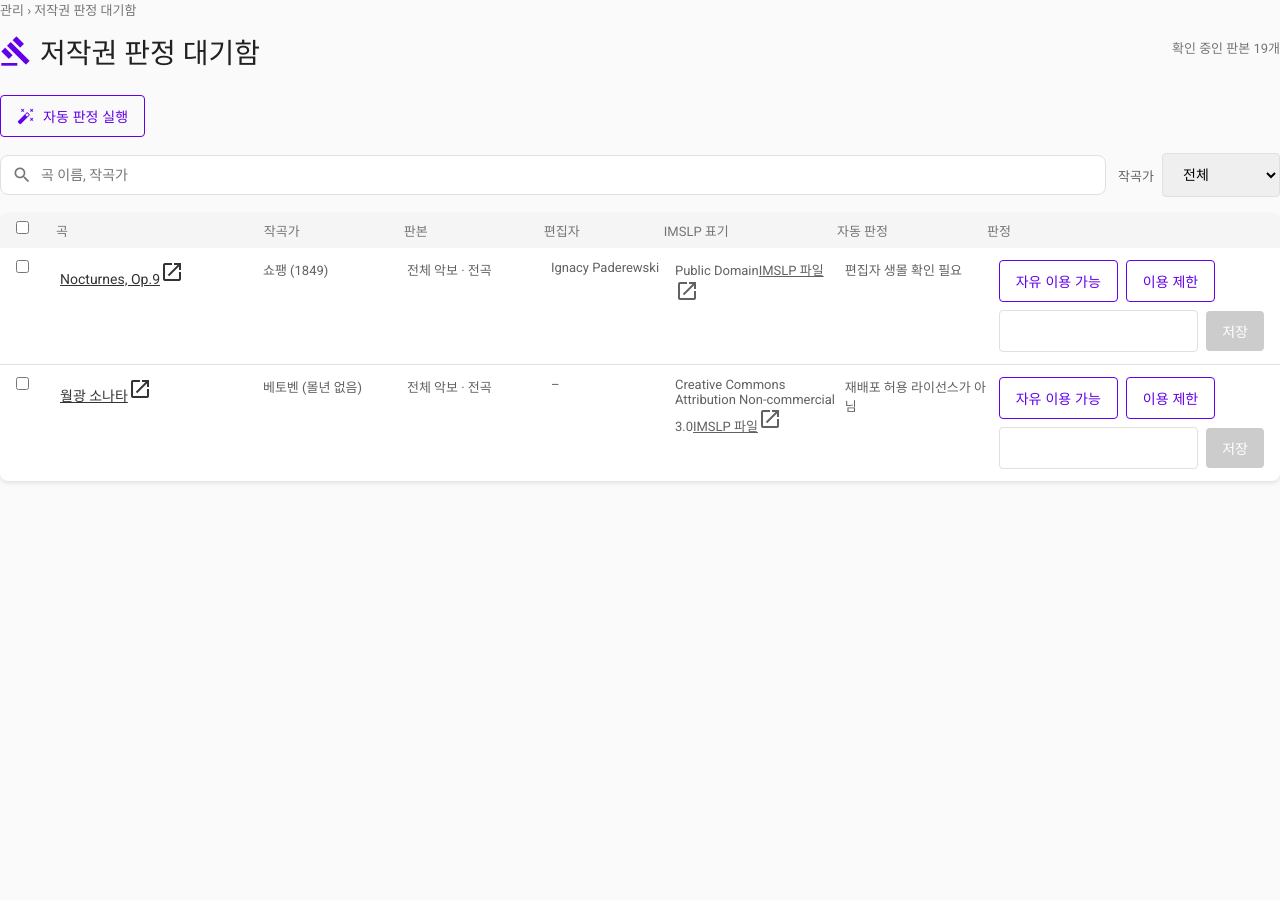
Test: 대기함 — 되돌린 직후의 창 (02 §5-8-1 화면 계약 2-1·2-2) › 실행 직후 창에서 되돌리면 실행 기억도 함께 끝난다 — 되돌린 것을 다시 되돌릴 수는 없다
This screenshot has width=1280, height=900.
Check: the button "자동 판정만 되돌리기" is not shown
Click the button "자동 판정 실행".
click(73, 116)  # box [0,95,145,137]
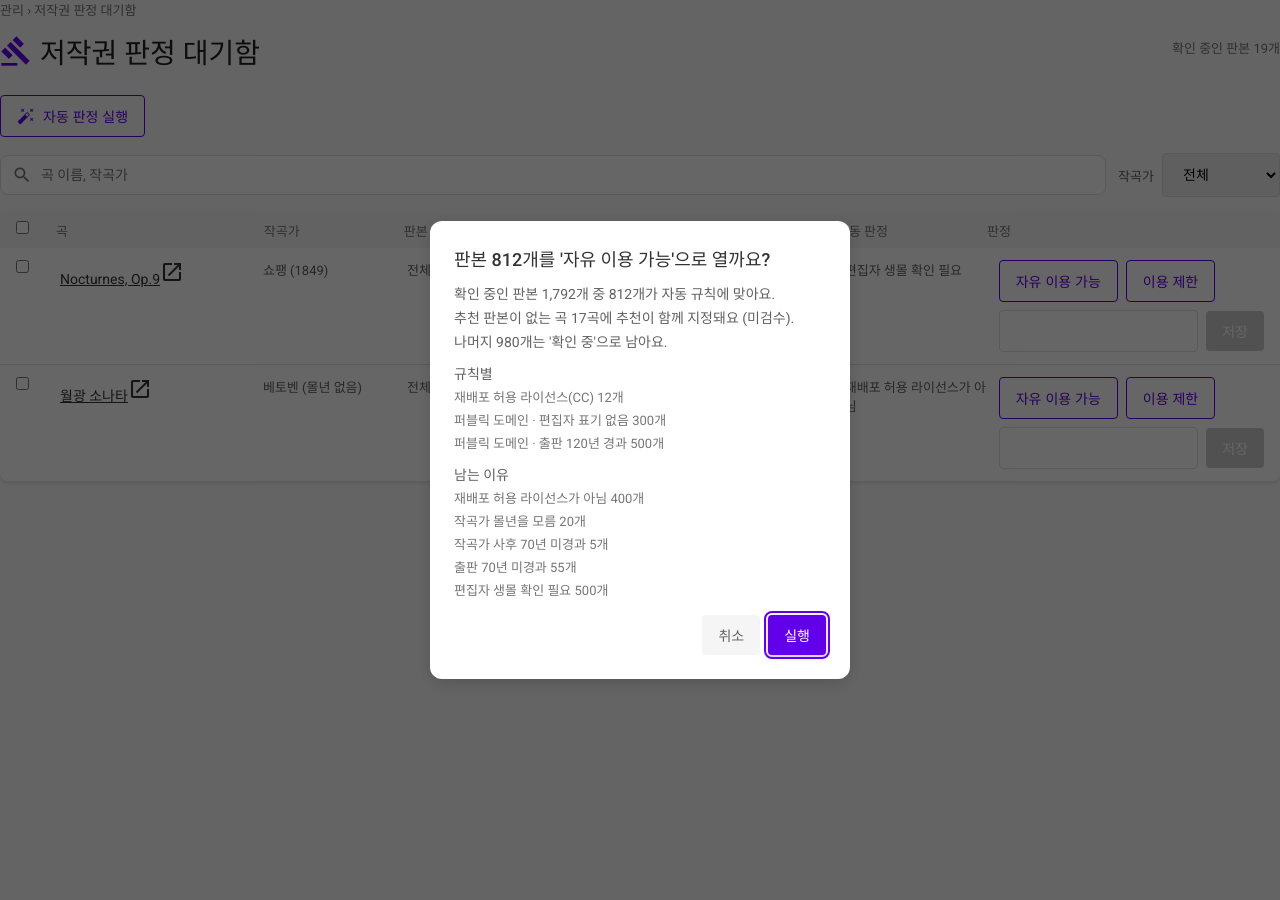
Check: the dialog is shown, box [430,221,850,679]
Click the button "실행".
click(797, 635)  # box [768,615,826,655]
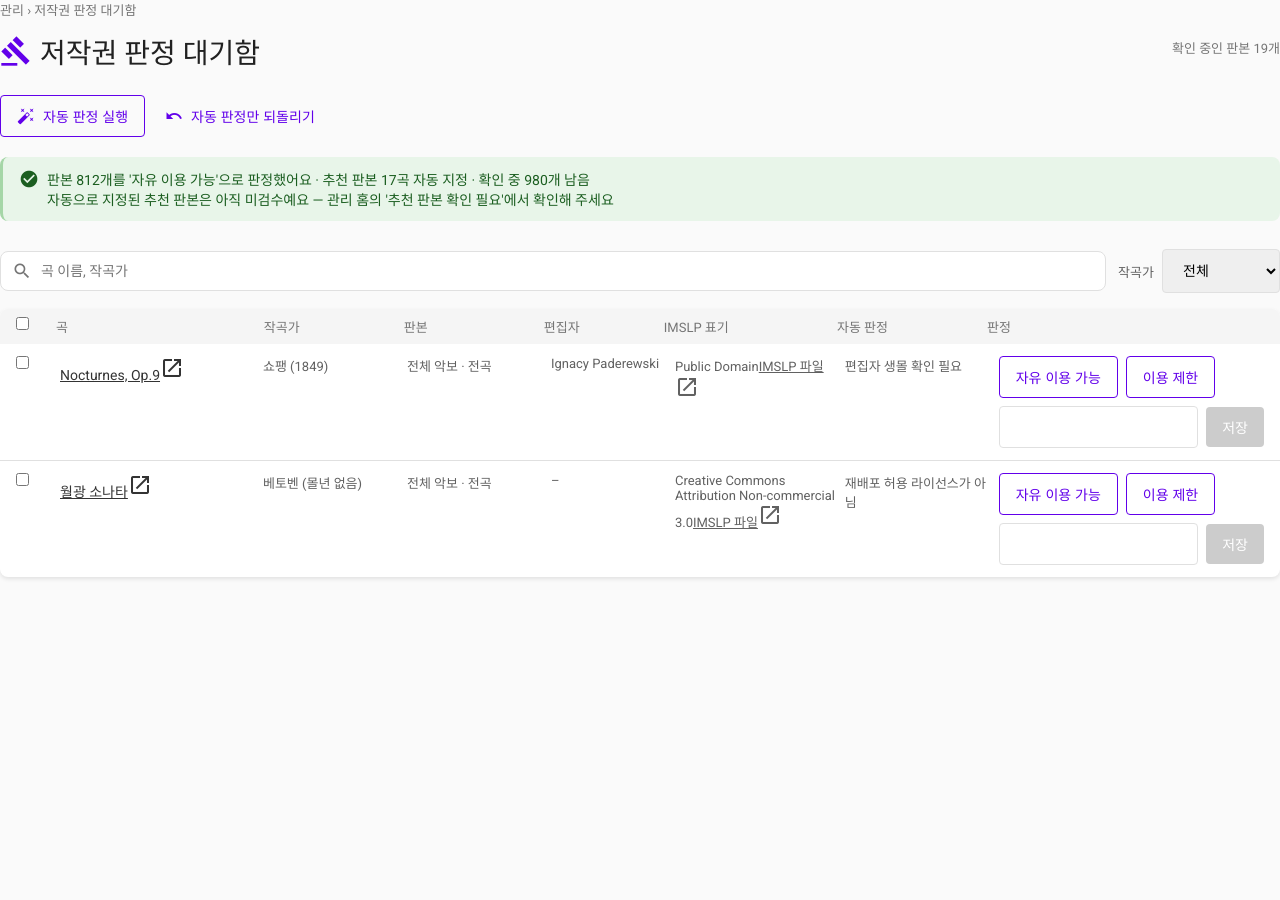
Check: the text "판정했어요" is shown, box [47,172,590,188]
Check: the button "자동 판정만 되돌리기" is shown
Click the button "자동 판정만 되돌리기".
click(240, 116)  # box [153,98,327,134]
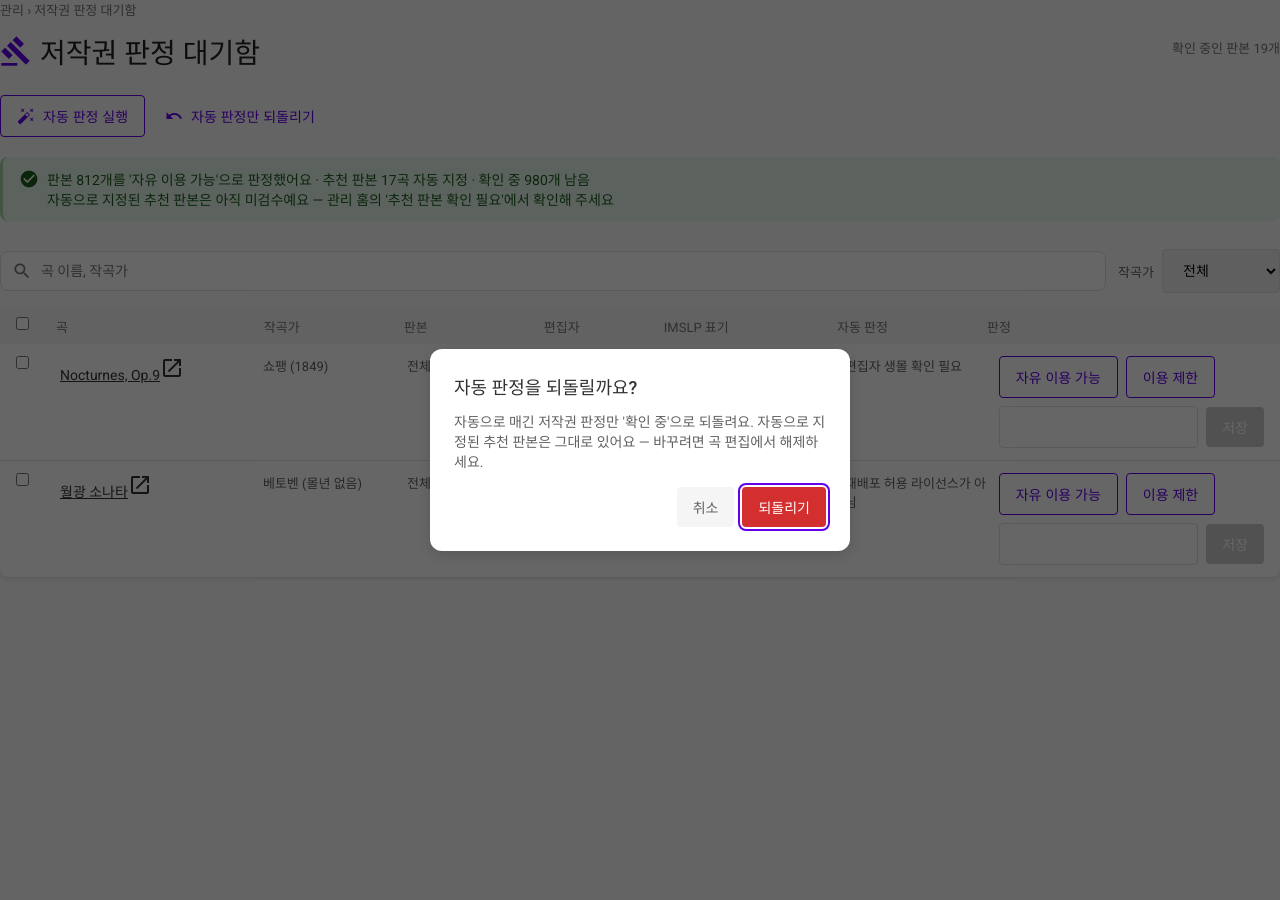
Click the button "되돌리기".
click(784, 507)  # box [742,487,826,527]
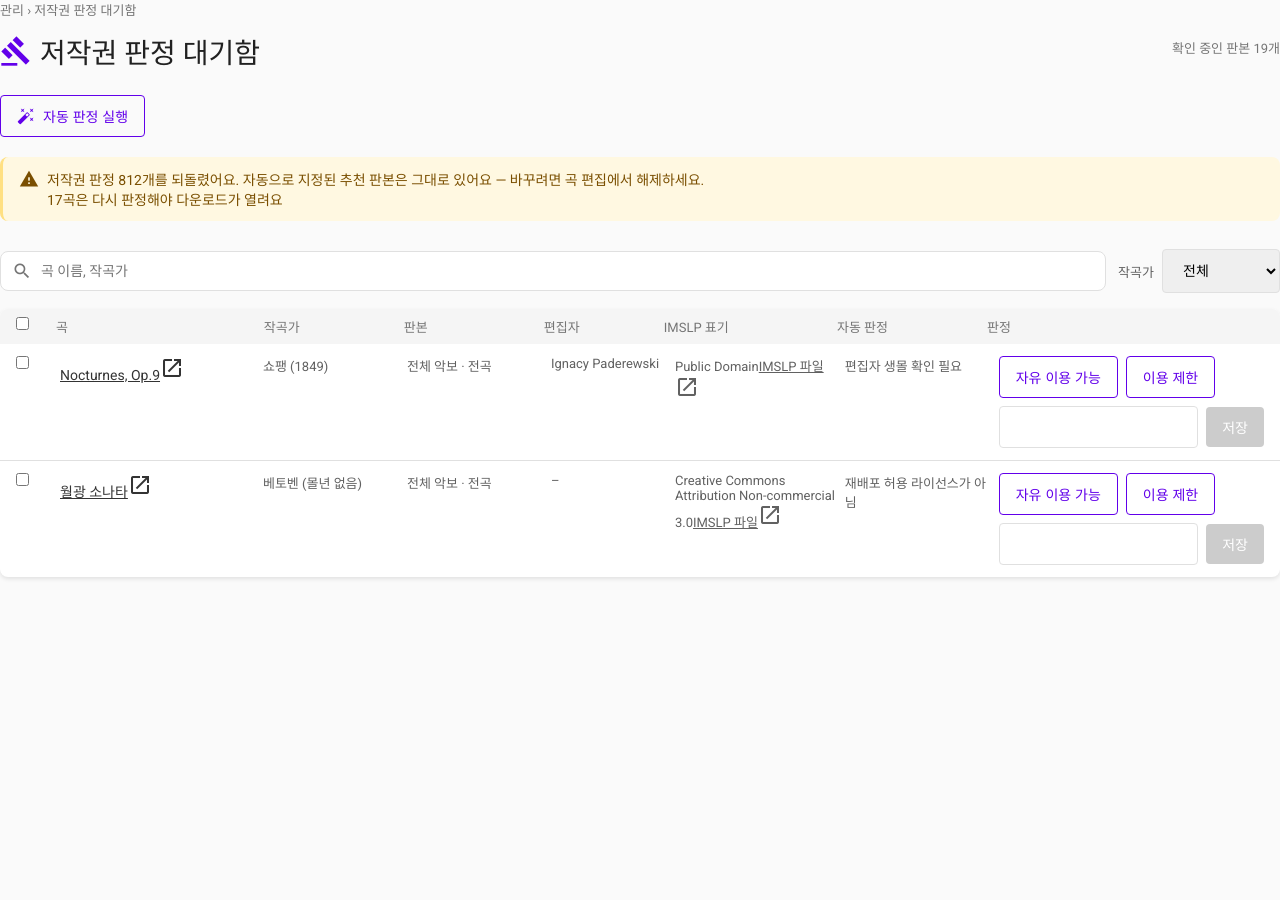
Check: the text "저작권 판정 812개를 되돌렸어요" is shown, box [47,172,704,188]
Check: the button "자동 판정만 되돌리기" is gone
